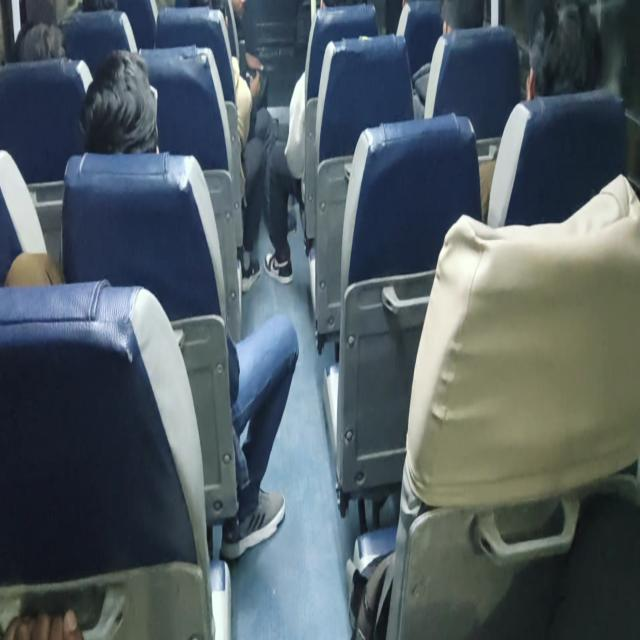person: (497, 9, 607, 94), (85, 63, 171, 169), (2, 6, 66, 65), (430, 0, 490, 41), (162, 0, 235, 33), (62, 0, 120, 27)
